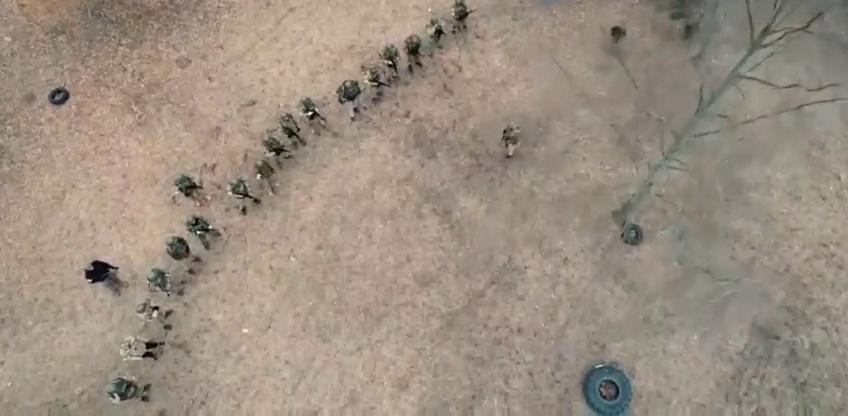person: (83, 260, 129, 298), (165, 236, 202, 275), (226, 175, 261, 215), (106, 375, 152, 404), (184, 215, 222, 250), (362, 60, 392, 104), (148, 268, 186, 302), (336, 80, 366, 122), (174, 174, 212, 207), (118, 336, 166, 362), (299, 97, 328, 138), (136, 298, 173, 330), (262, 134, 294, 171), (450, 0, 478, 36), (254, 159, 280, 197), (280, 112, 306, 150), (402, 34, 424, 75), (500, 119, 522, 160), (424, 16, 444, 59), (379, 42, 401, 80)
